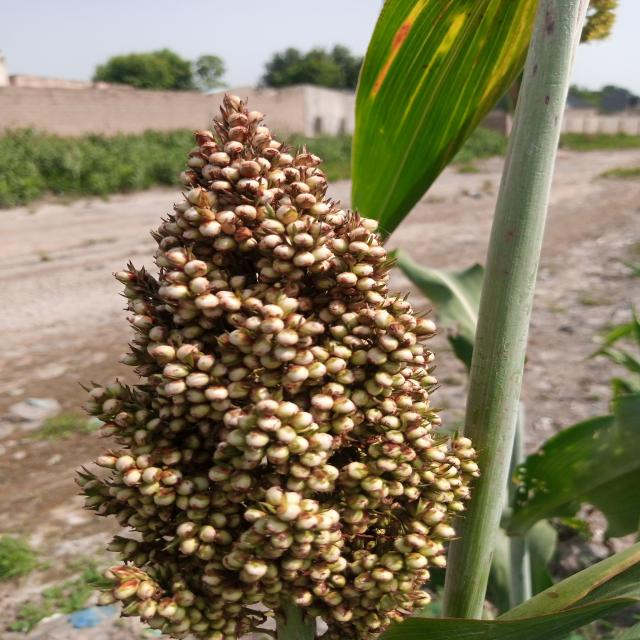UnripeSorghum: (98, 72, 491, 640)
